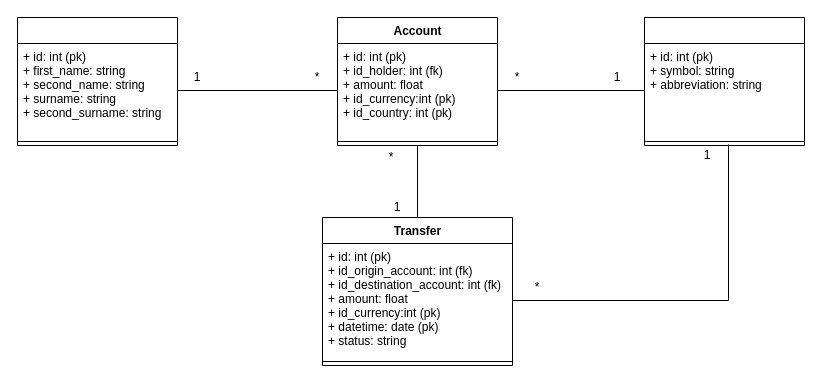
Some shapes in this 822 by 383 pixel diagram are drawn without their labels. Here are the shapes that lost their labels. From the top down, the box of each, then its label:
(16, 16, 178, 146): Customer
(644, 16, 804, 146): Currency
